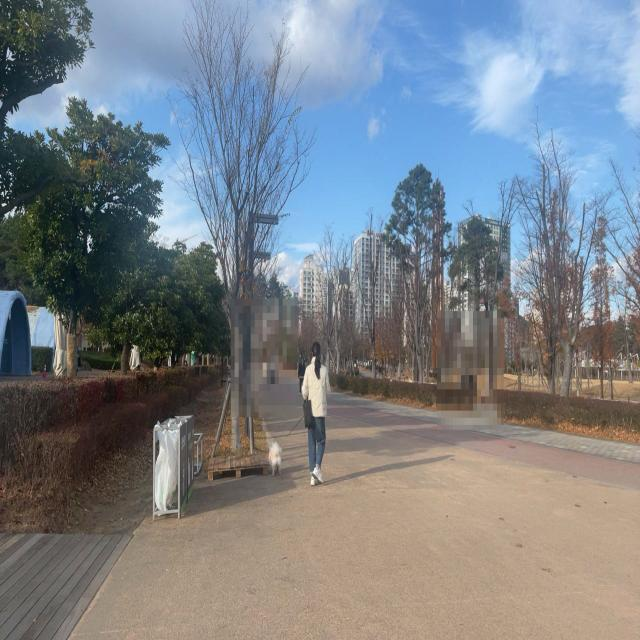Leashed_Dog: (269, 411, 312, 478)
